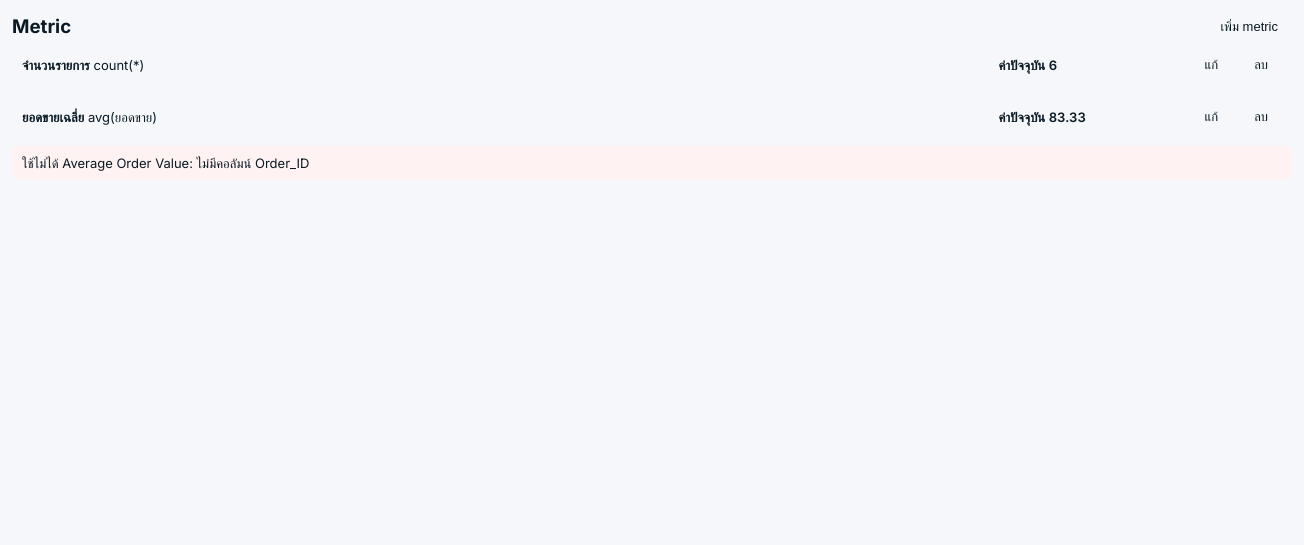
Test: keeps the id of the metric being edited
Click the button with aria-label "แก้ ยอดขายเฉลี่ย". click: (1211, 117)
box: x1=1190 y1=102 x2=1232 y2=132
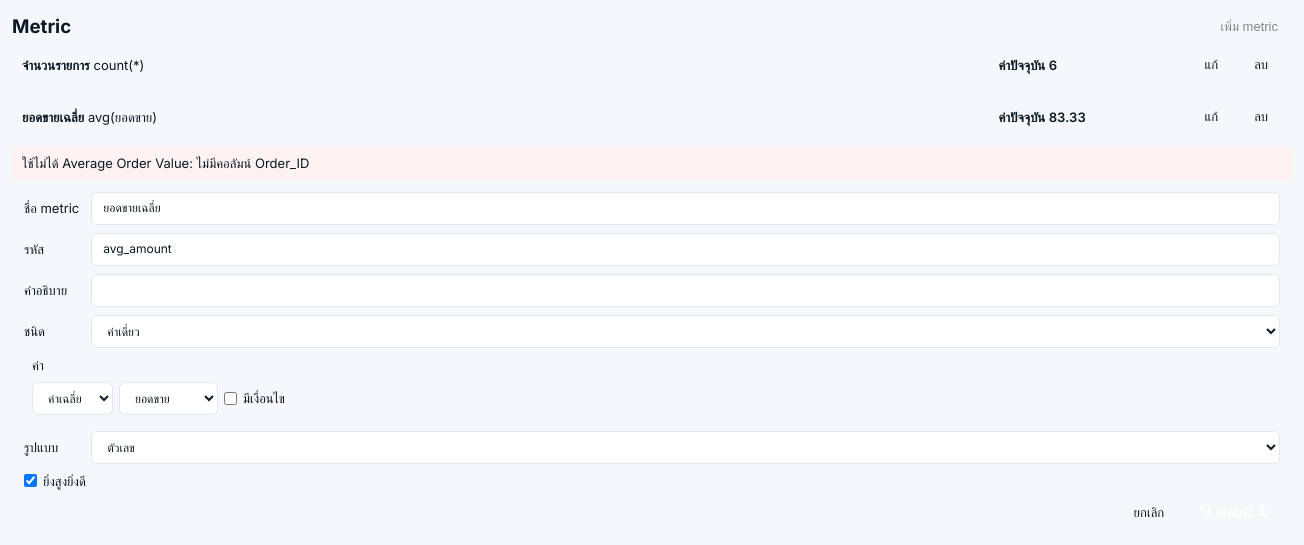
Result: the field labelled "รหัส" holds "avg_amount" at x1=91 y1=233 x2=1280 y2=266
